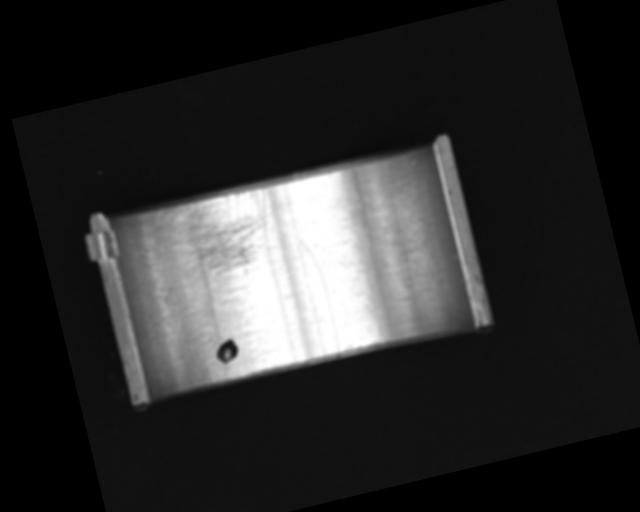blot: (211, 335, 242, 366)
nick: (298, 234, 343, 359)
scratch: (154, 183, 285, 295)
